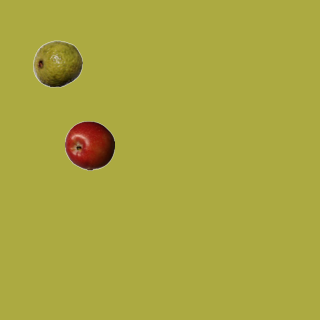Apple Braeburn: (64, 120, 114, 170)
Guava: (32, 38, 82, 88)
